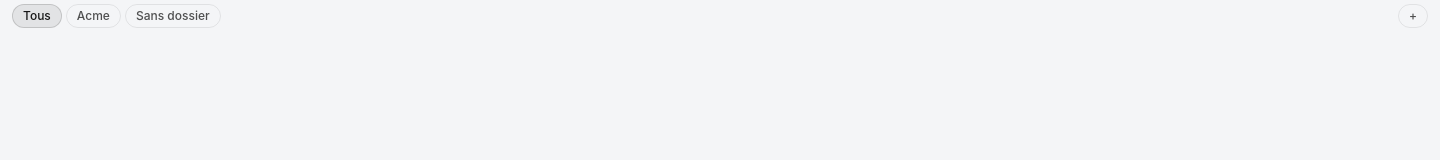
Scenario: closes the menu with Escape and gives the focus back to the chip
Click the button "Acme".
click(93, 16)  # box [66, 4, 121, 28]
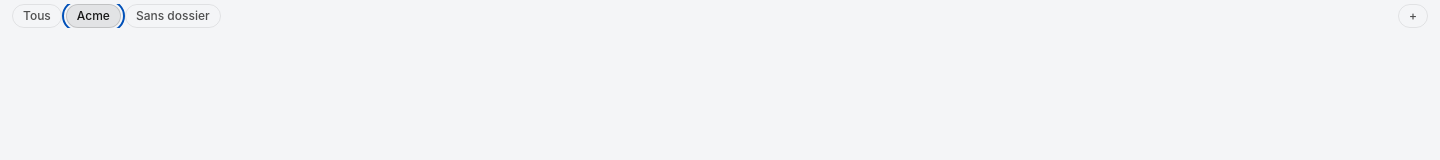
Click the button "Acme".
click(93, 16)  # box [66, 4, 121, 28]
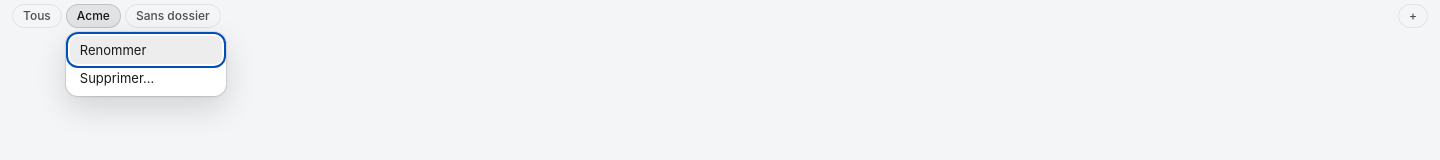
Press Escape
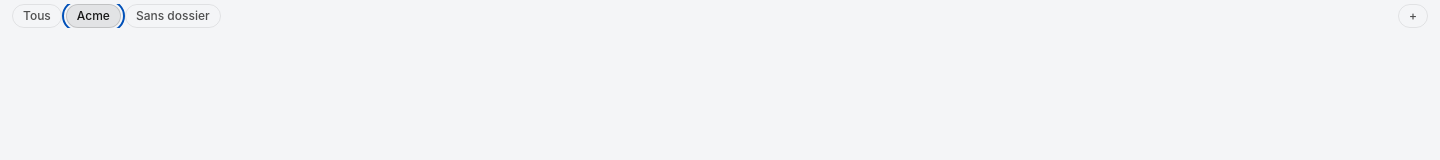
Result: the menu is gone
